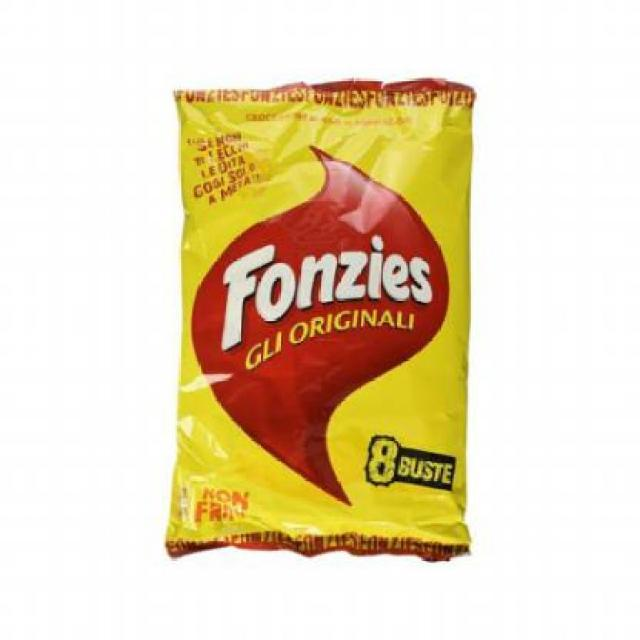Chips: (170, 66, 472, 562)
